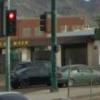Traffic light: (6, 5, 54, 47)
